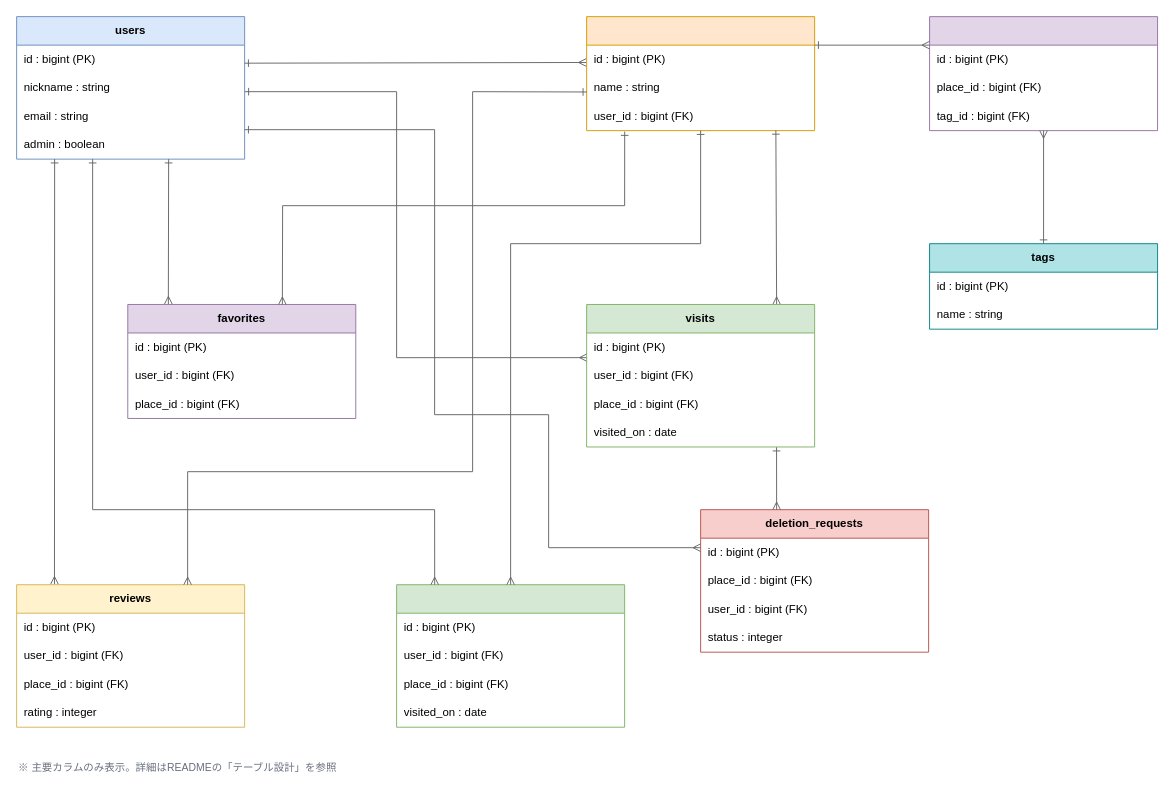
Image size: 1174x801. Some labels were removed from this diagram. The shapes that lost their labels are listed below. From the top down, each one's box as (x1, y1, x2, y2) in pixels, then its label:
(586, 16, 815, 131): places
(929, 16, 1158, 131): place_tags
(396, 584, 625, 727): visit_logs
